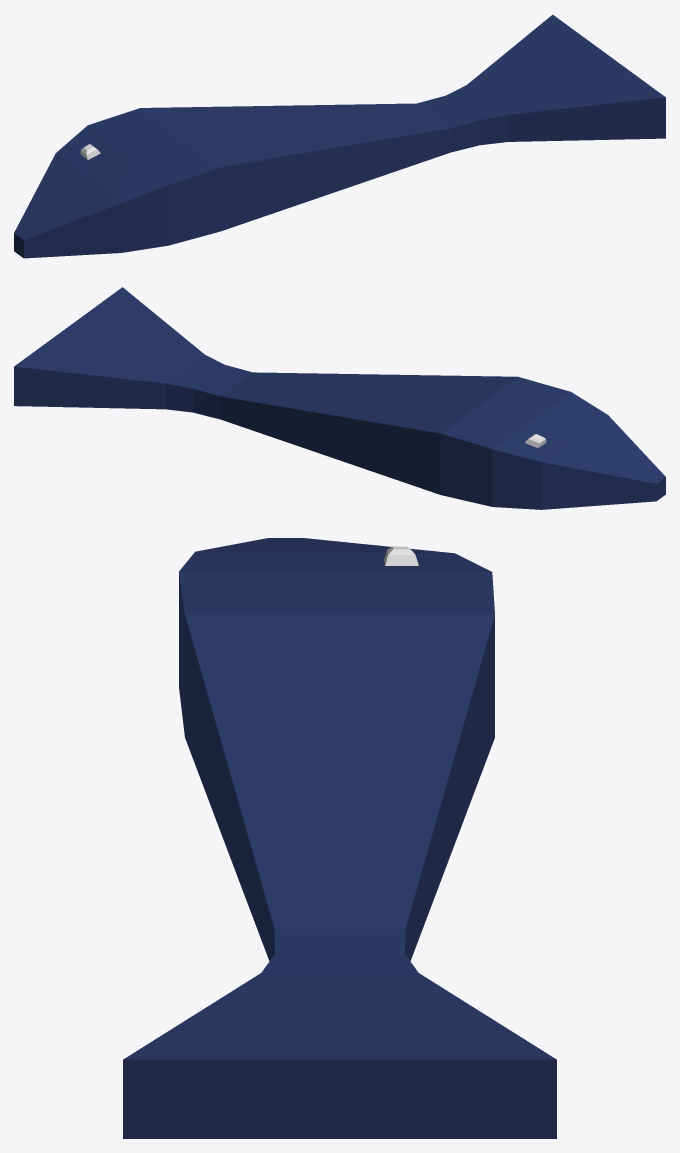
File: poisson.fbx
3 renders of one model, top to bottom at view 1: azimuth 30°, elevation 25°; view 2: azimuth 150°, elevation 25°; view 3: azimuth 270°, elevation 25°, orthographic. The views are drawn at different scales.
Visible parts, largest first — view 1: poisson; view 2: poisson; view 3: poisson.
Boxes of the visible parts, box(x1,y1,x2,y2) form: poisson: box(14, 14, 665, 258); poisson: box(14, 287, 665, 509); poisson: box(123, 538, 556, 1138).
Bounding box in the file's own units: 74.82 × 24.28 × 7.59.
